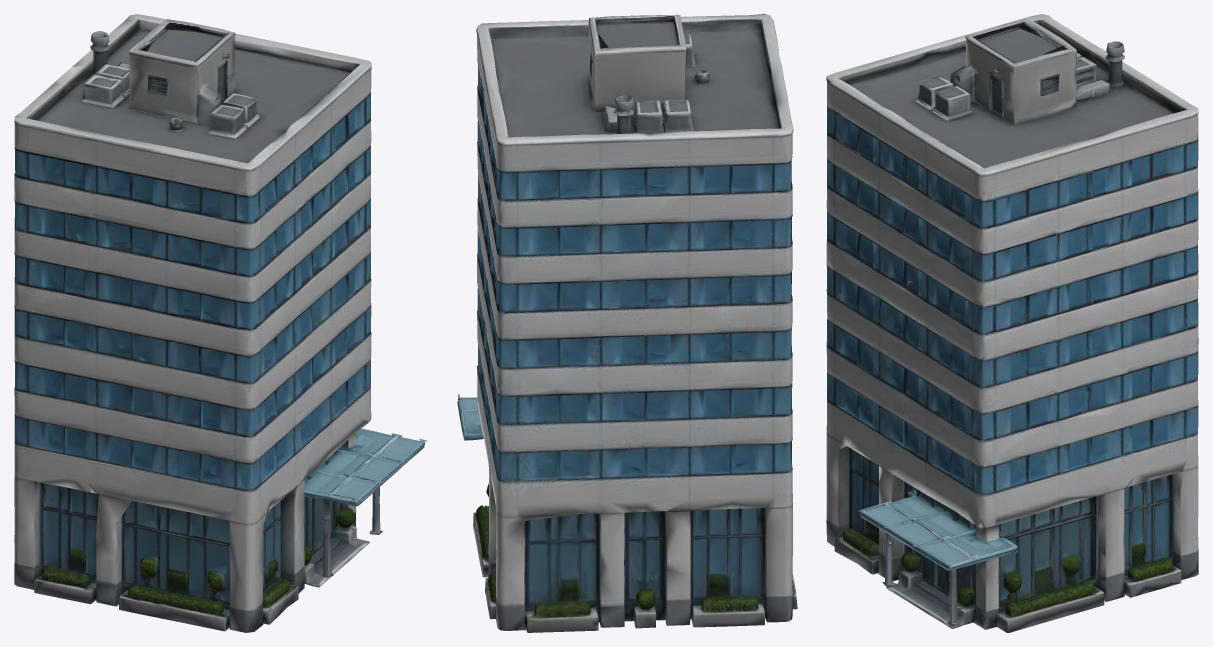
The model's file is hotel.glb.
3 views of the same model, side by side, from view 1: azimuth 30°, elevation 25°; view 2: azimuth 150°, elevation 25°; view 3: azimuth 270°, elevation 25° (orthographic). The views are drawn at different scales.
Visible parts, largest first — view 1: tripo_node_0f0e3bee-52db-420c-a364-18021a640fcc; view 2: tripo_node_0f0e3bee-52db-420c-a364-18021a640fcc; view 3: tripo_node_0f0e3bee-52db-420c-a364-18021a640fcc.
Boxes of the visible parts, x1=… form: tripo_node_0f0e3bee-52db-420c-a364-18021a640fcc: x1=14, y1=14, x2=427, y2=632; tripo_node_0f0e3bee-52db-420c-a364-18021a640fcc: x1=457, y1=14, x2=797, y2=632; tripo_node_0f0e3bee-52db-420c-a364-18021a640fcc: x1=826, y1=14, x2=1198, y2=632.
Bounding box in the file's own units: 0.7268 × 0.9807 × 0.6451.
Materials: 1 (1 with a texture image).
